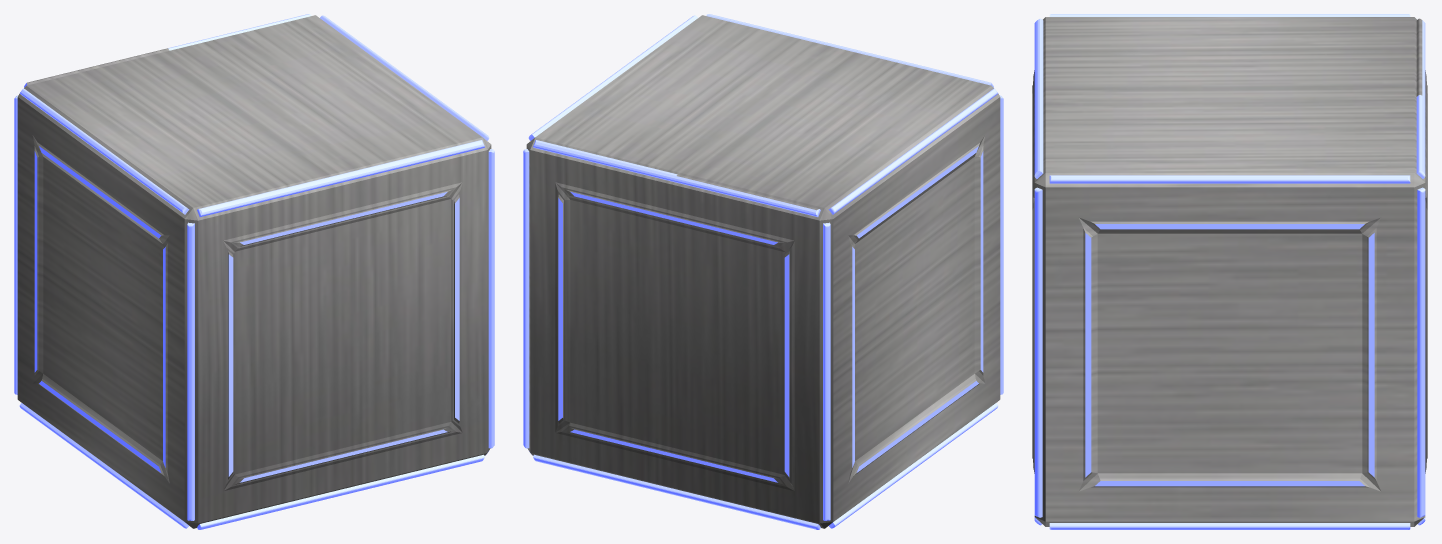
Rendered from Caja_Laberinto_01.fbx.
3 views of the same model, side by side, from view 1: azimuth 30°, elevation 25°; view 2: azimuth 150°, elevation 25°; view 3: azimuth 270°, elevation 25° (orthographic). The views are drawn at different scales.
Visible parts, largest first — view 1: Cubo.001; view 2: Cubo.001; view 3: Cubo.001.
Part boxes in pixels (box(x1,y1,x2,y2)): Cubo.001: box(14, 14, 494, 529); Cubo.001: box(523, 14, 1003, 529); Cubo.001: box(1032, 14, 1427, 529).
Size of the model in its own units: 201 by 200 by 203.
